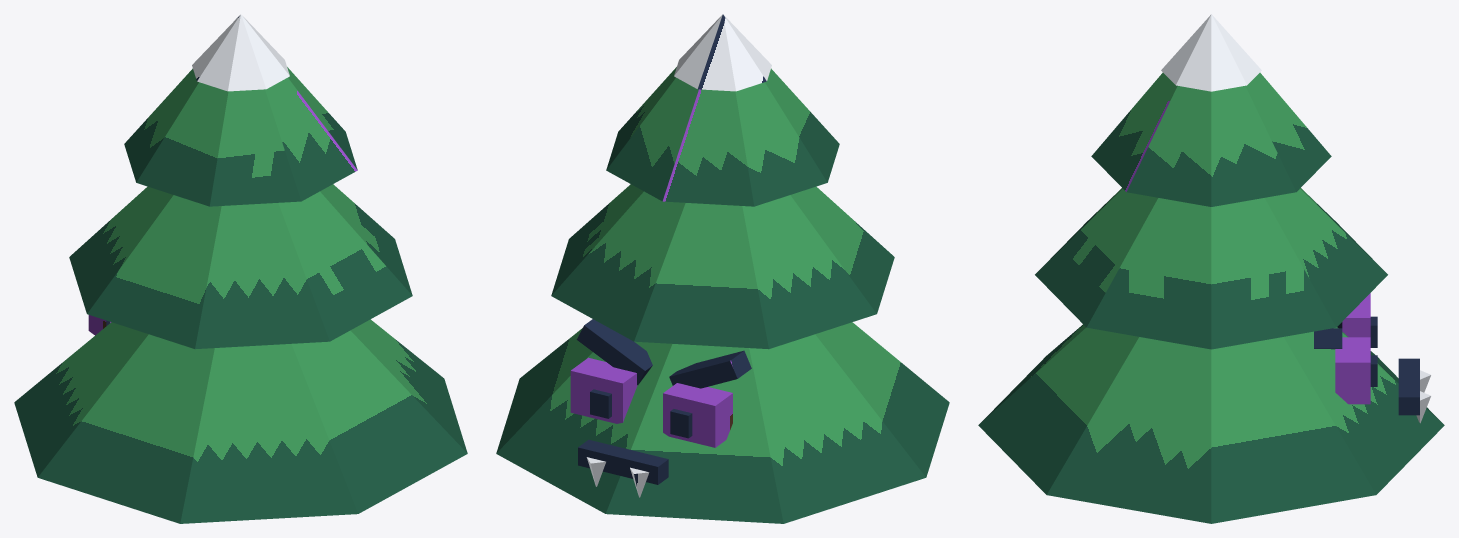
Rendered from chonk.glb.
3 views of the same model, side by side, from view 1: azimuth 30°, elevation 25°; view 2: azimuth 150°, elevation 25°; view 3: azimuth 270°, elevation 25° (orthographic).
Parts seen in each view (by area): view 1: chonk; view 2: chonk; view 3: chonk.
Part boxes in pixels (x1,y1,x2,y2): chonk: [14, 14, 467, 523]; chonk: [496, 14, 949, 523]; chonk: [978, 14, 1444, 523].
Bounding box in the file's own units: 1.32 × 1.4 × 1.32.
1 material, 1 textured.
